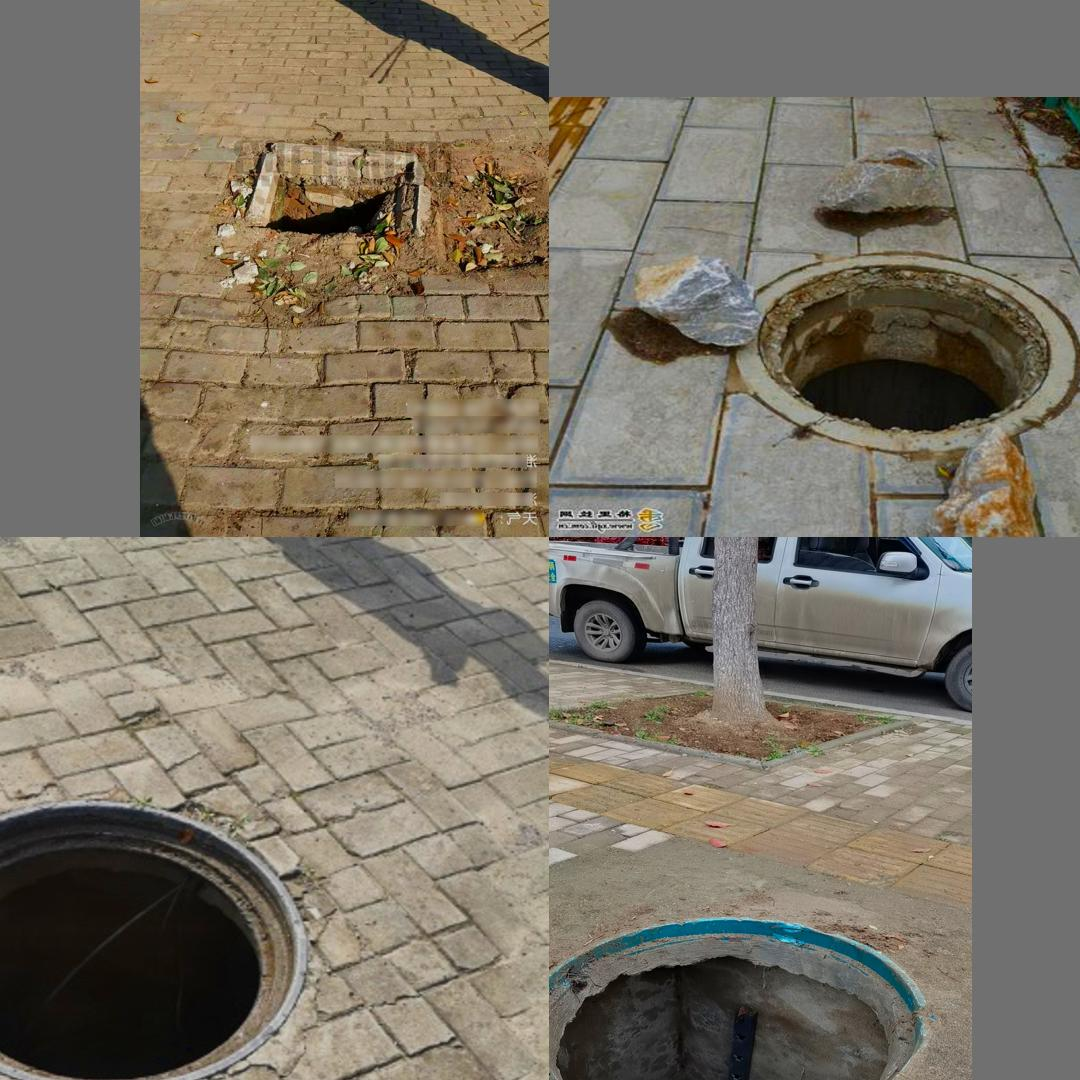lose: (0, 776, 341, 1080), (719, 242, 1080, 448), (549, 918, 929, 1080), (233, 142, 427, 240)
